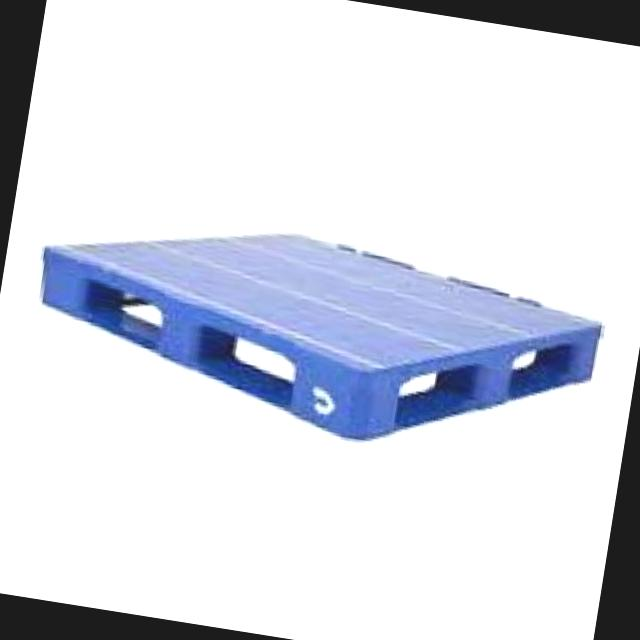pallet: (16, 187, 625, 485)
